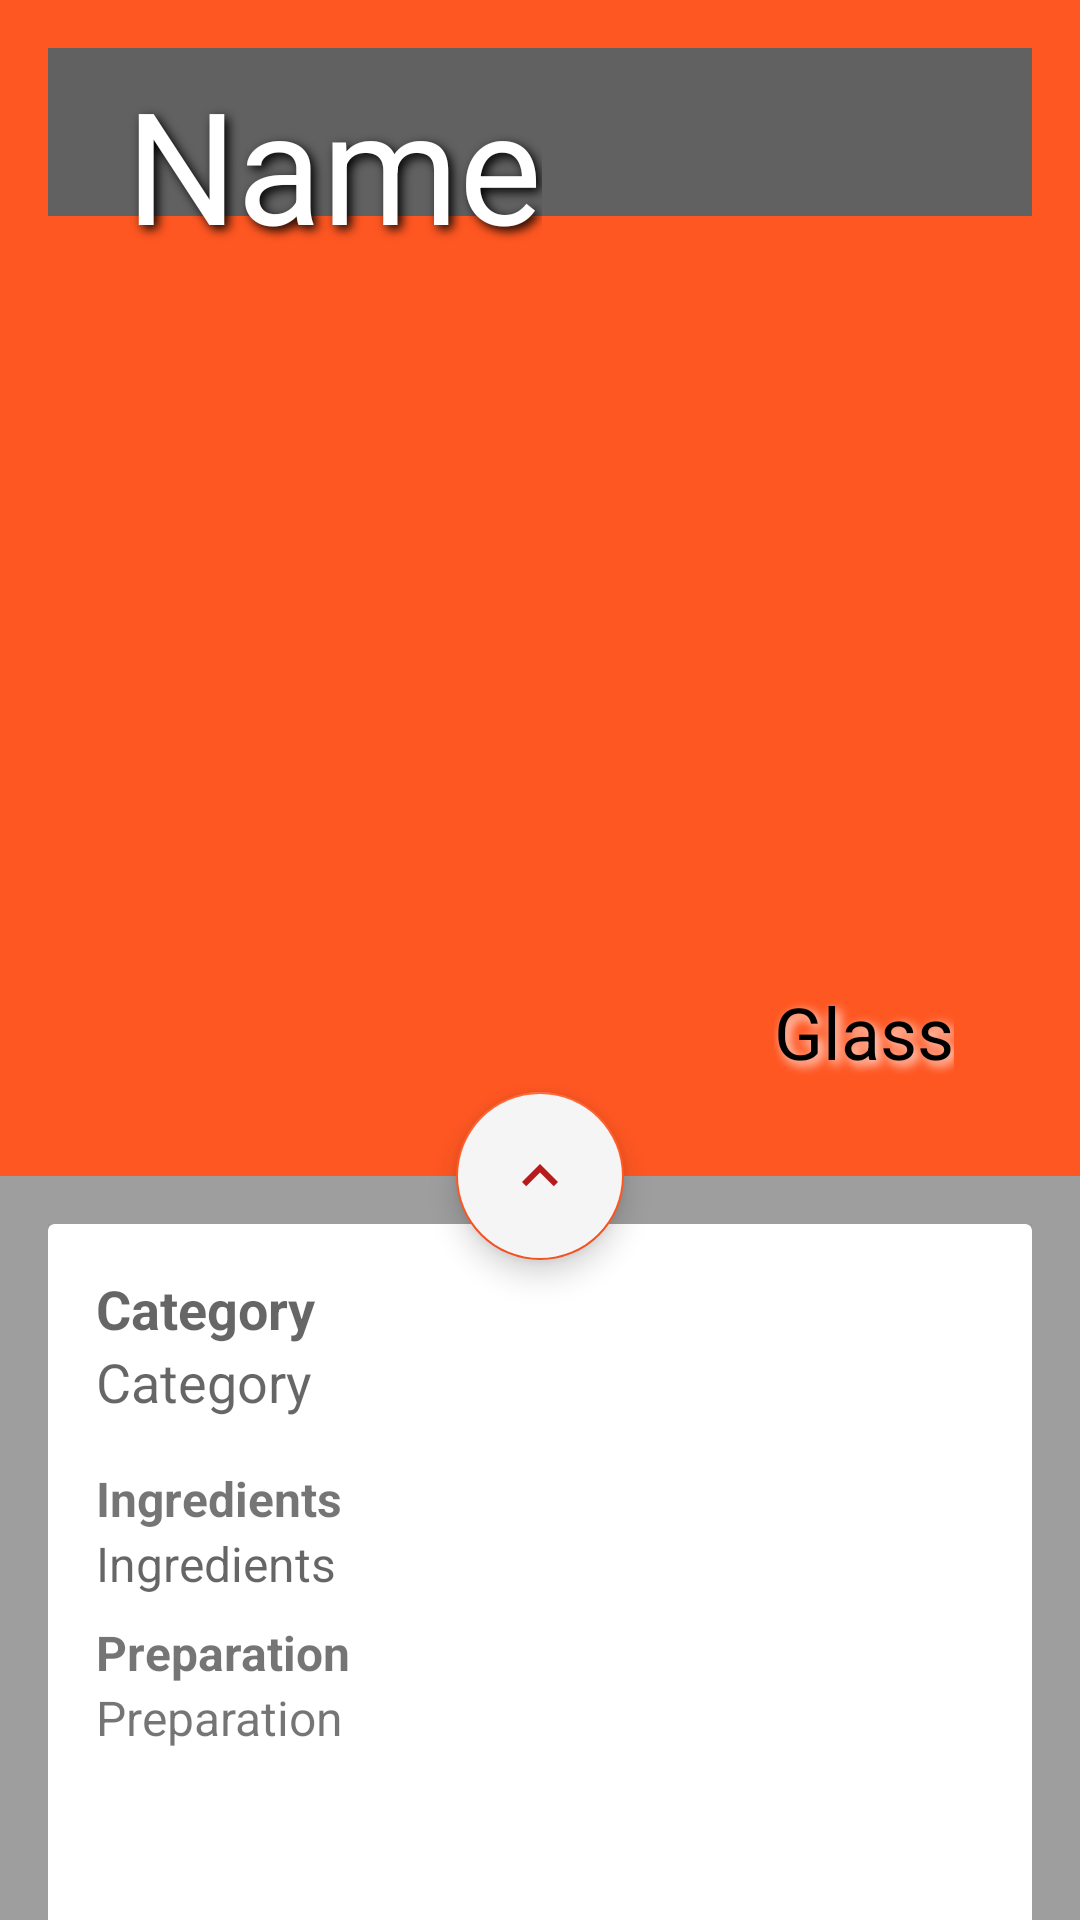

Icon click points for this 1080 x 1920 phone screenshot, format point (x, y):
expand: point (540, 1176)
